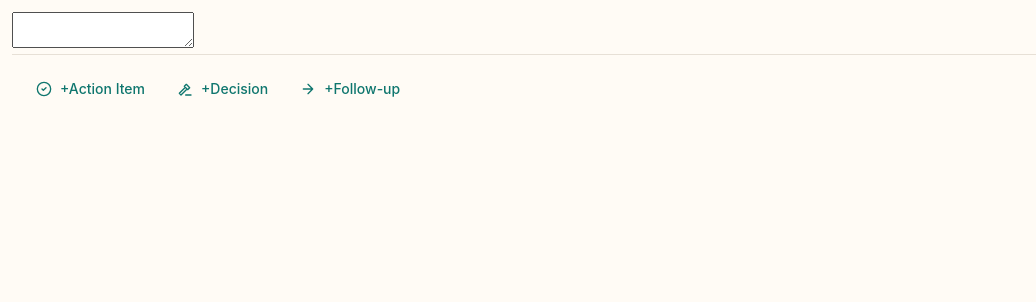
Test: QuickCapture › submits the title with Enter, closes the form and returns focus to the editor
Click the button with aria-label "Add follow-up": [350, 89] box [288, 67, 412, 111]
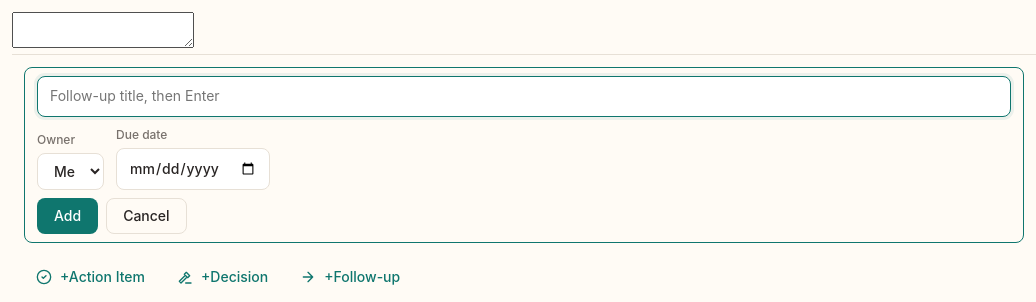
In the field labelled "Follow-up title": [524, 97] box [37, 76, 1011, 117], type "Check in Friday"
Then press Enter
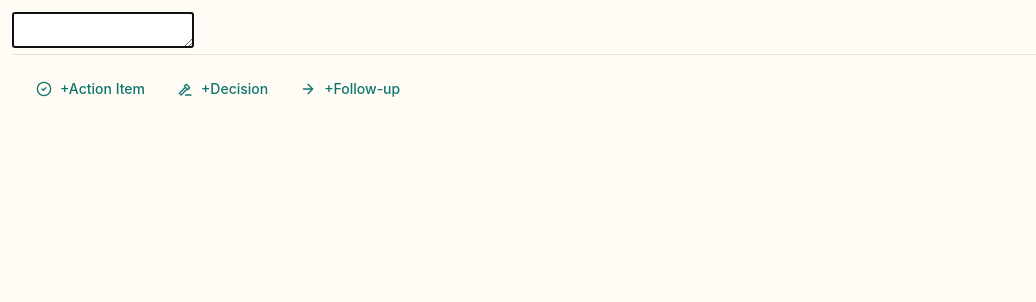
Expected: the form is gone
